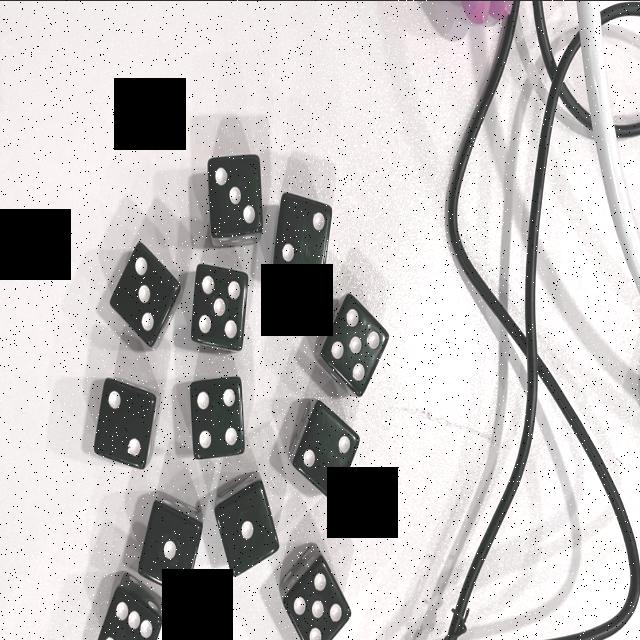DICE1: (141, 504, 201, 582), (224, 480, 272, 565)
DICE2: (96, 378, 160, 464), (300, 408, 360, 486), (276, 200, 330, 280)
DICE3: (118, 250, 180, 336), (210, 148, 260, 238)
DICE4: (194, 376, 242, 460)
DICE5: (328, 296, 388, 382), (292, 557, 350, 640), (194, 268, 248, 344)
DICE6: (97, 597, 161, 640)
